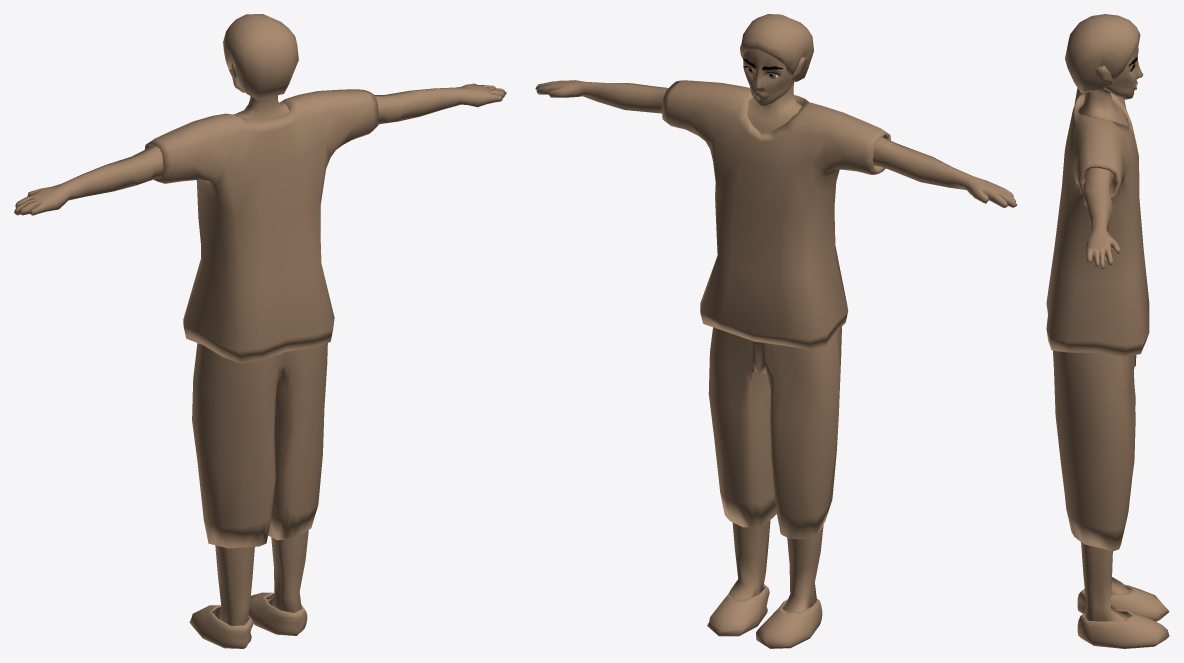
File: NPCMen2.fbx
The picture shows the model from 3 angles, left to right: view 1: azimuth 30°, elevation 25°; view 2: azimuth 150°, elevation 25°; view 3: azimuth 270°, elevation 25°; orthographic projection. The views are drawn at different scales.
Visible parts, largest first — view 1: NPCshirt2, NPCpants2, NPCbody2, NPChair2, NPCshoes2; view 2: NPCshirt2, NPCpants2, NPCbody2, NPCshoes2, NPChair2; view 3: NPCshirt2, NPCpants2, NPCbody2, NPChair2, NPCshoes2.
Boxes of the visible parts, left/top/right/bottom form: NPCshirt2: left=144, top=89, right=378, bottom=363; NPCpants2: left=192, top=343, right=327, bottom=548; NPCbody2: left=14, top=61, right=506, bottom=625; NPChair2: left=223, top=14, right=298, bottom=99; NPCshoes2: left=189, top=592, right=307, bottom=648; NPCshirt2: left=661, top=80, right=890, bottom=349; NPCpants2: left=708, top=327, right=841, bottom=539; NPCbody2: left=535, top=50, right=1017, bottom=612; NPCshoes2: left=707, top=584, right=822, bottom=648; NPChair2: left=740, top=14, right=813, bottom=81; NPCshirt2: left=1046, top=88, right=1149, bottom=356; NPCpants2: left=1053, top=351, right=1136, bottom=551; NPCbody2: left=1078, top=46, right=1143, bottom=621; NPChair2: left=1065, top=14, right=1140, bottom=92; NPCshoes2: left=1077, top=584, right=1169, bottom=648.
Bounding box in the file's own units: 922 × 1109 × 202.
